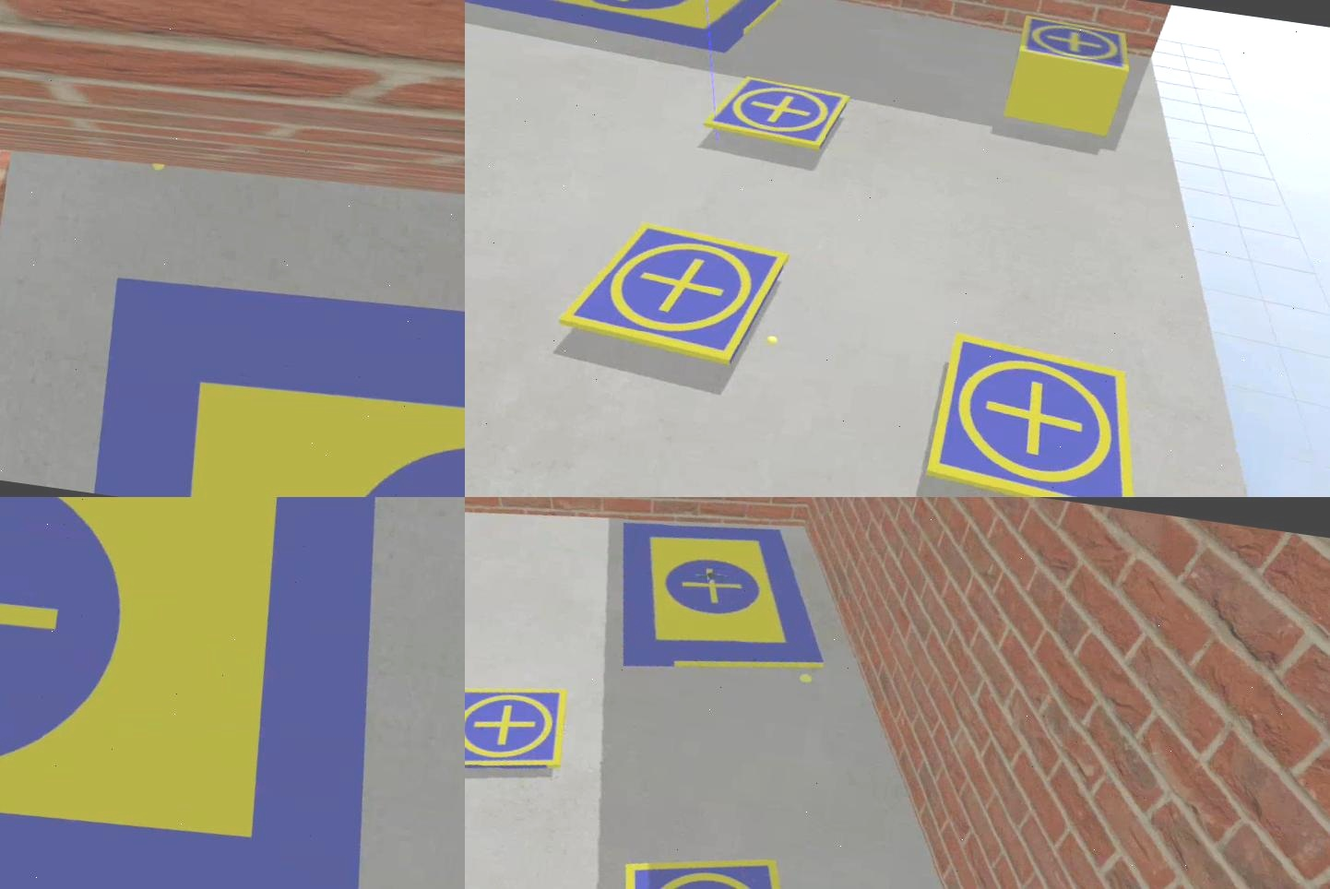large_base: (1, 498, 438, 889), (88, 247, 465, 498), (600, 502, 842, 695), (465, 1, 792, 64)
small_base: (920, 328, 1163, 498), (555, 209, 792, 373), (705, 71, 853, 159), (465, 672, 570, 786), (605, 838, 822, 889), (1015, 13, 1134, 75)
